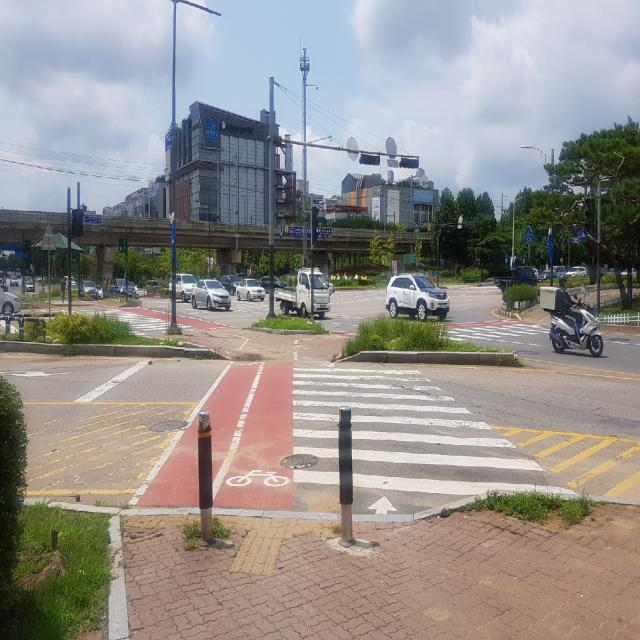횡단보도: (293, 361, 576, 517)
